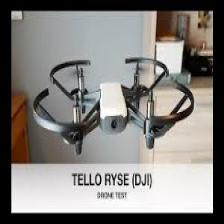drone: (32, 53, 195, 148)
